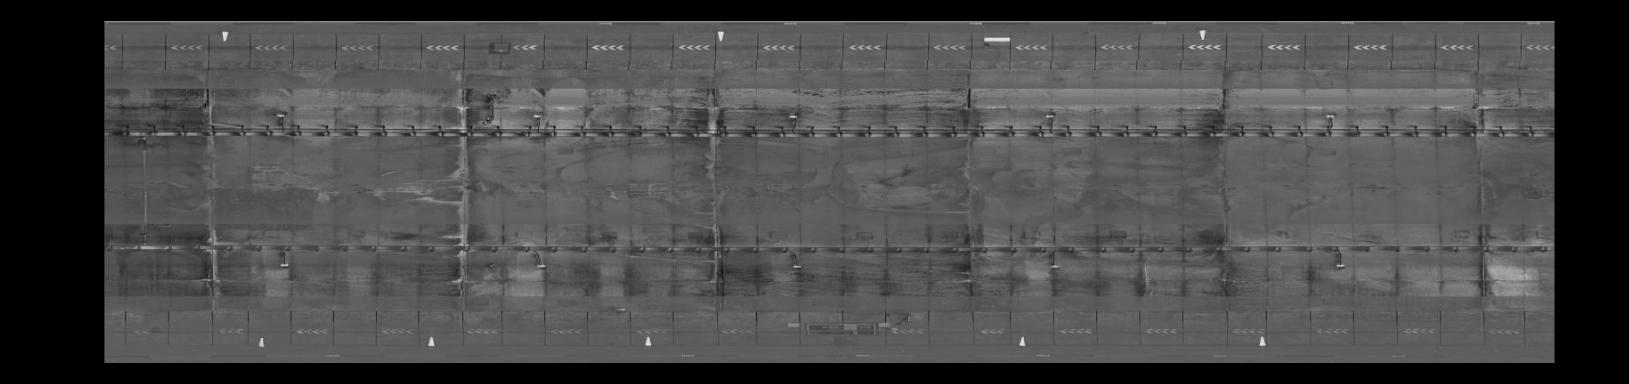light: (274, 258, 298, 273), (527, 111, 548, 122), (530, 260, 551, 272), (1331, 259, 1348, 272), (1045, 260, 1063, 272), (787, 262, 806, 272), (273, 110, 290, 121), (786, 111, 802, 122), (1320, 112, 1339, 121), (1040, 111, 1057, 120)
